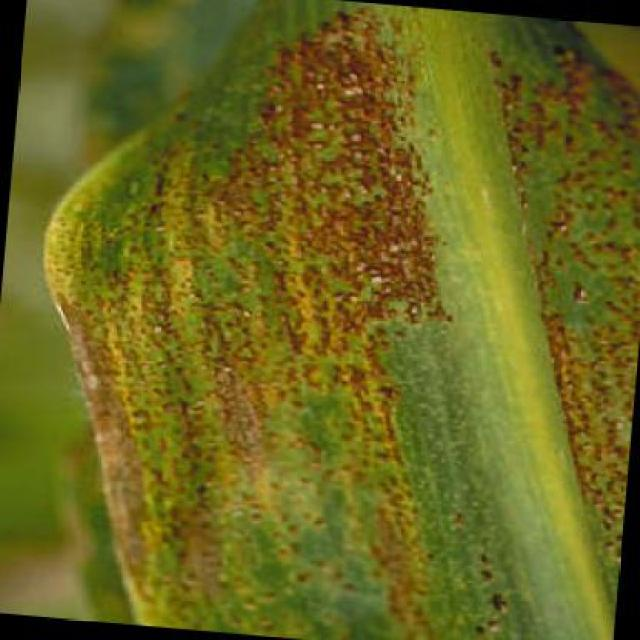Corn_Rust: (35, 46, 614, 611)
